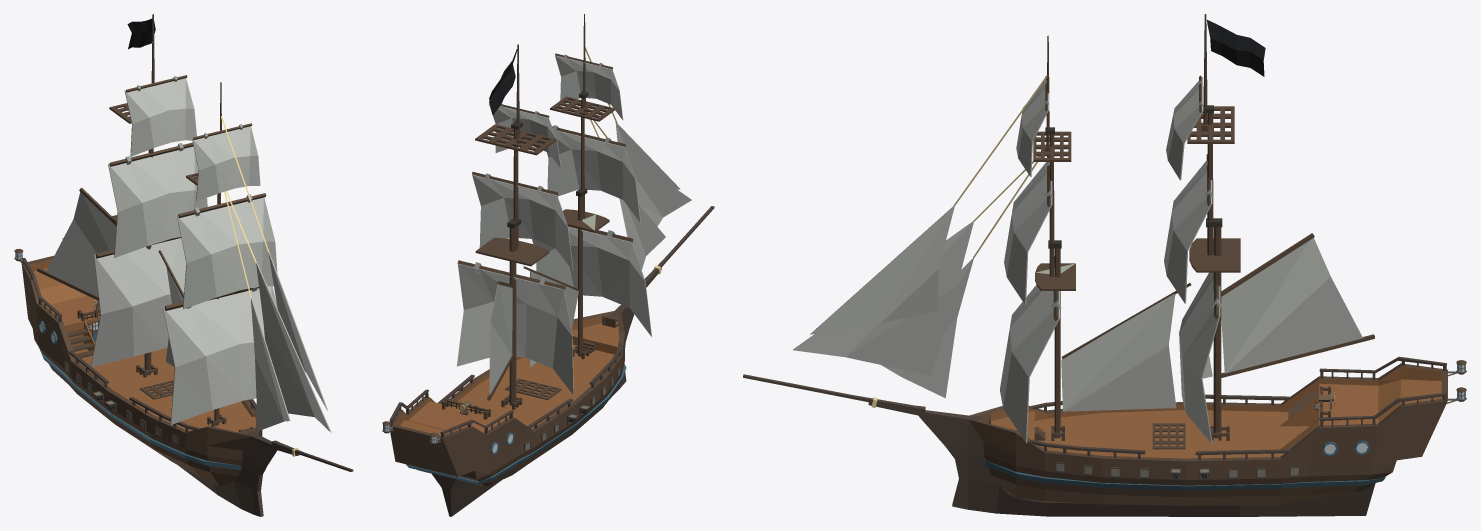
The model's file is newship.fbx.
3 renders of one model, left to right at view 1: azimuth 30°, elevation 25°; view 2: azimuth 150°, elevation 25°; view 3: azimuth 270°, elevation 25°, orthographic. The views are drawn at different scales.
Visible parts, largest first — view 1: polySurface654, polySurface532, polySurface515, polySurface531, polySurface516, polySurface530, polySurface507, polySurface508, polySurface513, polySurface710, polySurface514, polySurface541 (+6 smaller); view 2: polySurface654, polySurface515, polySurface532, polySurface541, polySurface516, polySurface531, polySurface590, polySurface508, polySurface507, polySurface513, polySurface710, polySurface530 (+7 smaller); view 3: polySurface654, polySurface507, polySurface506, polySurface710, polySurface513, polySurface512, polySurface541, polySurface532, polySurface590, polySurface515, polySurface531, polySurface516 (+7 smaller).
Boxes of the visible parts, <box> form: polySurface654: <box>21,255,262,487</box>; polySurface532: <box>163,286,277,424</box>; polySurface515: <box>90,238,186,367</box>; polySurface531: <box>176,197,277,309</box>; polySurface516: <box>108,146,207,257</box>; polySurface530: <box>124,78,196,156</box>; polySurface507: <box>46,192,116,296</box>; polySurface508: <box>192,126,260,201</box>; polySurface513: <box>256,262,331,432</box>; polySurface710: <box>178,440,277,516</box>; polySurface514: <box>251,298,290,430</box>; polySurface541: <box>95,14,193,375</box>; polySurface654: <box>390,311,624,486</box>; polySurface515: <box>457,263,573,394</box>; polySurface532: <box>532,226,651,336</box>; polySurface541: <box>457,44,565,405</box>; polySurface516: <box>472,174,573,270</box>; polySurface531: <box>547,130,640,222</box>; polySurface590: <box>550,14,633,356</box>; polySurface508: <box>555,55,623,119</box>; polySurface507: <box>489,284,512,394</box>; polySurface513: <box>619,155,691,237</box>; polySurface710: <box>431,308,634,516</box>; polySurface530: <box>489,103,561,168</box>; polySurface654: <box>969,363,1447,505</box>; polySurface507: <box>1221,238,1362,373</box>; polySurface506: <box>1061,294,1176,411</box>; polySurface710: <box>918,415,1375,516</box>; polySurface513: <box>793,221,973,375</box>; polySurface512: <box>810,205,954,334</box>; polySurface541: <box>1187,14,1240,438</box>; polySurface532: <box>1000,285,1059,443</box>; polySurface590: <box>1033,35,1075,438</box>; polySurface515: <box>1179,272,1220,443</box>; polySurface531: <box>1004,162,1052,304</box>; polySurface516: <box>1164,161,1212,303</box>.
Size of the model in its own units: 147 by 506 by 663.
1 material, 1 textured.
